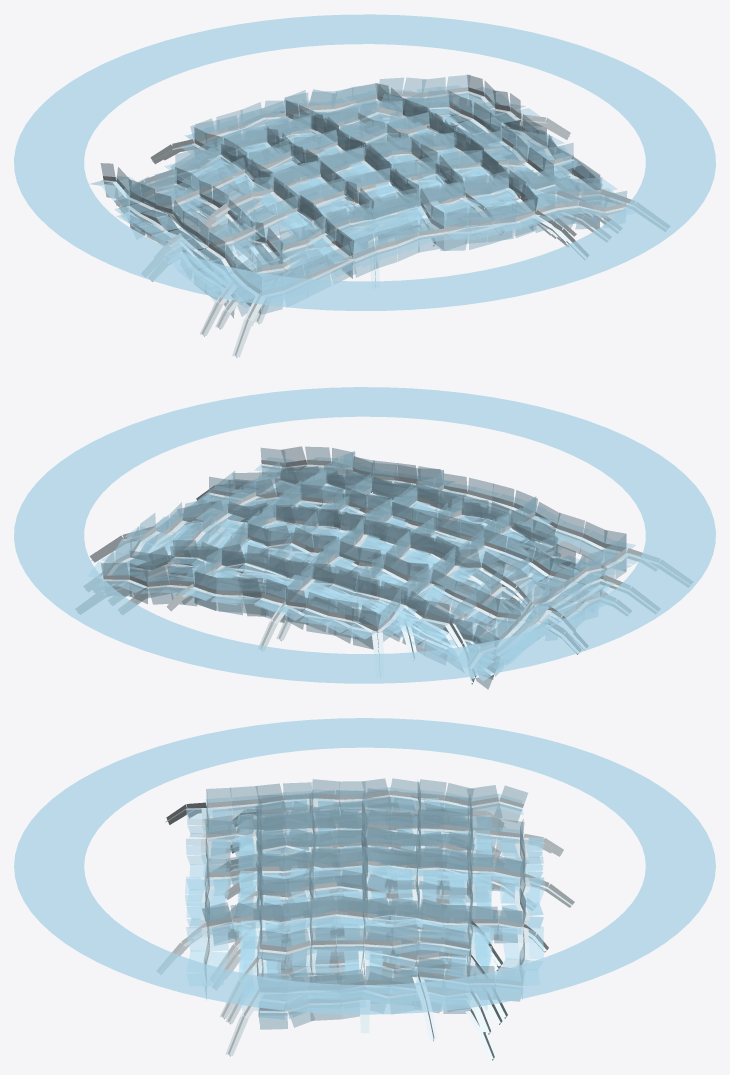
File: PV_LuoiVo.fbx
3 renders of one model, top to bottom at view 1: azimuth 30°, elevation 25°; view 2: azimuth 150°, elevation 25°; view 3: azimuth 270°, elevation 25°, orthographic.
Visible parts, largest first — view 1: LuoiVo_Song, LuoiVo_Manh6, LuoiVo_Manh8, LuoiVo_Manh5, LuoiVo_Manh1, LuoiVo_Manh9, LuoiVo_Manh2, LuoiVo_Manh3, LuoiVo_Manh0, LuoiVo_Manh4, LuoiVo_Manh7; view 2: LuoiVo_Song, LuoiVo_Manh6, LuoiVo_Manh8, LuoiVo_Manh5, LuoiVo_Manh1, LuoiVo_Manh9, LuoiVo_Manh2, LuoiVo_Manh0, LuoiVo_Manh3, LuoiVo_Manh4, LuoiVo_Manh7; view 3: LuoiVo_Song, LuoiVo_Manh6, LuoiVo_Manh8, LuoiVo_Manh5, LuoiVo_Manh1, LuoiVo_Manh9, LuoiVo_Manh2, LuoiVo_Manh3, LuoiVo_Manh0, LuoiVo_Manh4, LuoiVo_Manh7.
Boxes of the visible parts, x1=… form: LuoiVo_Song: x1=14, y1=14, x2=715, y2=310; LuoiVo_Manh6: x1=89, y1=74, x2=628, y2=357; LuoiVo_Manh8: x1=150, y1=83, x2=588, y2=278; LuoiVo_Manh5: x1=114, y1=90, x2=572, y2=262; LuoiVo_Manh1: x1=114, y1=96, x2=669, y2=336; LuoiVo_Manh9: x1=119, y1=100, x2=622, y2=266; LuoiVo_Manh2: x1=116, y1=98, x2=614, y2=307; LuoiVo_Manh3: x1=208, y1=109, x2=576, y2=240; LuoiVo_Manh0: x1=172, y1=110, x2=611, y2=324; LuoiVo_Manh4: x1=121, y1=124, x2=608, y2=329; LuoiVo_Manh7: x1=217, y1=112, x2=569, y2=246; LuoiVo_Song: x1=14, y1=387, x2=715, y2=683; LuoiVo_Manh6: x1=89, y1=446, x2=692, y2=680; LuoiVo_Manh8: x1=166, y1=452, x2=552, y2=677; LuoiVo_Manh5: x1=162, y1=461, x2=566, y2=679; LuoiVo_Manh1: x1=83, y1=467, x2=660, y2=658; LuoiVo_Manh9: x1=108, y1=471, x2=571, y2=684; LuoiVo_Manh2: x1=93, y1=472, x2=615, y2=679; LuoiVo_Manh0: x1=118, y1=482, x2=608, y2=658; LuoiVo_Manh3: x1=210, y1=469, x2=524, y2=641; LuoiVo_Manh4: x1=75, y1=478, x2=631, y2=689; LuoiVo_Manh7: x1=181, y1=486, x2=508, y2=660; LuoiVo_Song: x1=14, y1=718, x2=715, y2=1014; LuoiVo_Manh6: x1=165, y1=778, x2=543, y2=1041; LuoiVo_Manh8: x1=157, y1=812, x2=574, y2=974; LuoiVo_Manh5: x1=230, y1=791, x2=505, y2=970; LuoiVo_Manh1: x1=225, y1=788, x2=493, y2=1056; LuoiVo_Manh9: x1=220, y1=797, x2=509, y2=1019; LuoiVo_Manh2: x1=239, y1=790, x2=503, y2=1033; LuoiVo_Manh3: x1=211, y1=809, x2=536, y2=980; LuoiVo_Manh0: x1=218, y1=810, x2=504, y2=1024; LuoiVo_Manh4: x1=239, y1=814, x2=497, y2=1060; LuoiVo_Manh7: x1=212, y1=815, x2=501, y2=990.
Size of the model in its own units: 2 by 0.3357 by 2.
